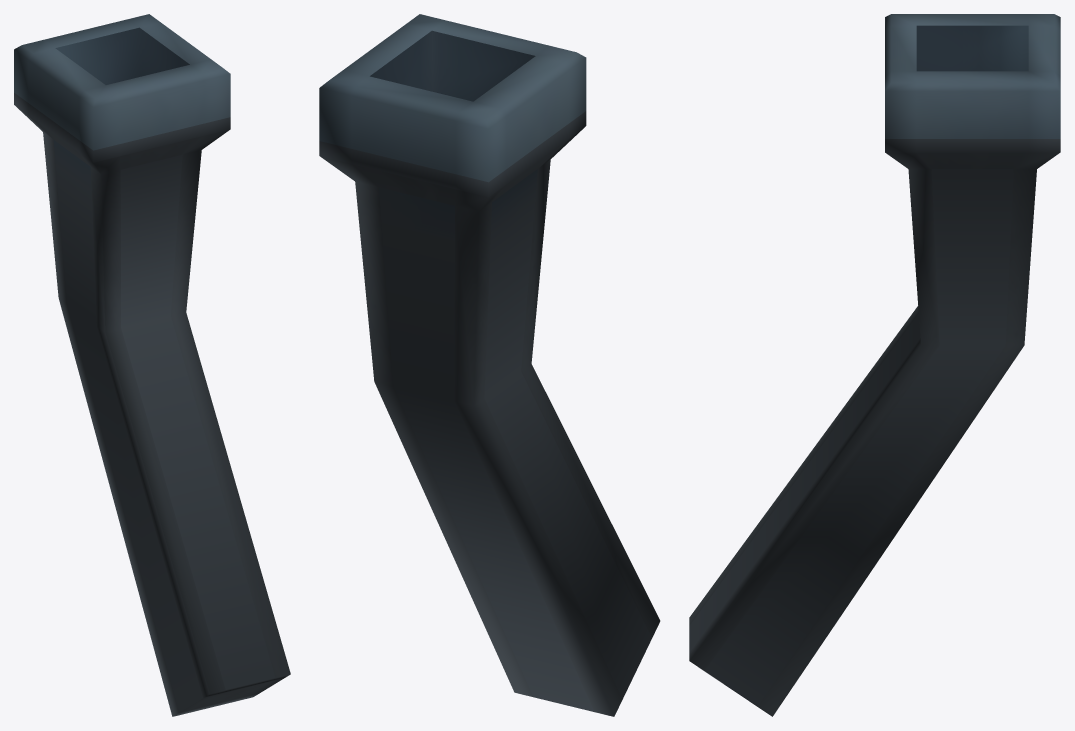
File: prop_town_chimney.glb
3 views of the same model, side by side, from view 1: azimuth 30°, elevation 25°; view 2: azimuth 150°, elevation 25°; view 3: azimuth 270°, elevation 25° (orthographic). The views are drawn at different scales.
Parts seen in each view (by area): view 1: obj_chimney; view 2: obj_chimney; view 3: obj_chimney.
Part boxes in pixels (x1,y1,x2,y2): obj_chimney: (14, 14, 290, 716); obj_chimney: (319, 14, 660, 716); obj_chimney: (689, 14, 1060, 716).
Bounding box in the file's own units: 1.08 × 4.4 × 2.29.
1 material, 1 textured.
